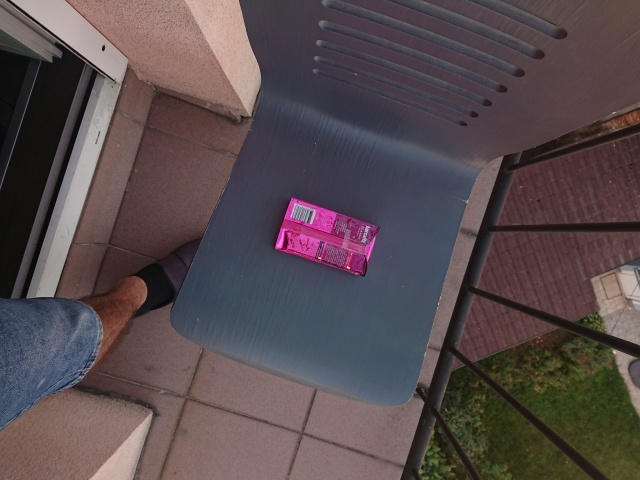Barcaffe Classic Original 225g: (273, 196, 382, 279)
